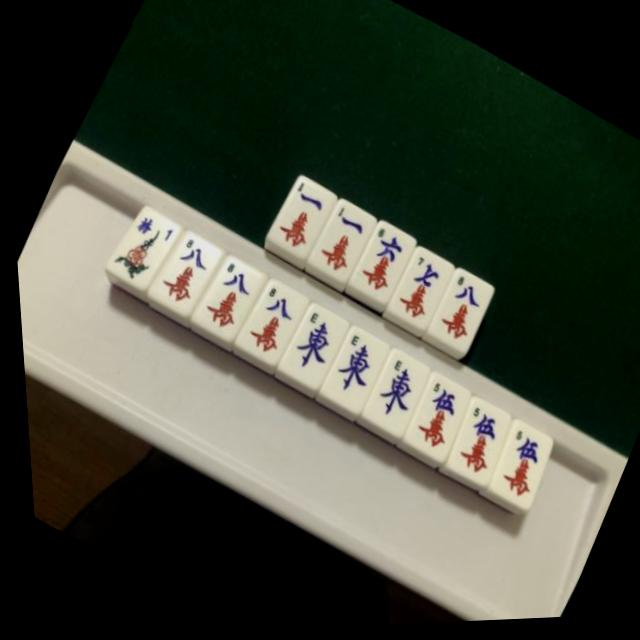bf1: (99, 199, 180, 294)
hwe: (352, 344, 427, 431), (273, 301, 345, 385), (314, 323, 386, 407)
sc1: (258, 169, 339, 262), (300, 193, 378, 284)
sc5: (476, 417, 555, 507), (434, 394, 512, 483), (394, 371, 469, 457)
sc6: (339, 218, 416, 305)
sc7: (378, 242, 453, 328)
sc8: (184, 249, 264, 341), (416, 263, 493, 353), (142, 227, 219, 315), (228, 276, 303, 364)
